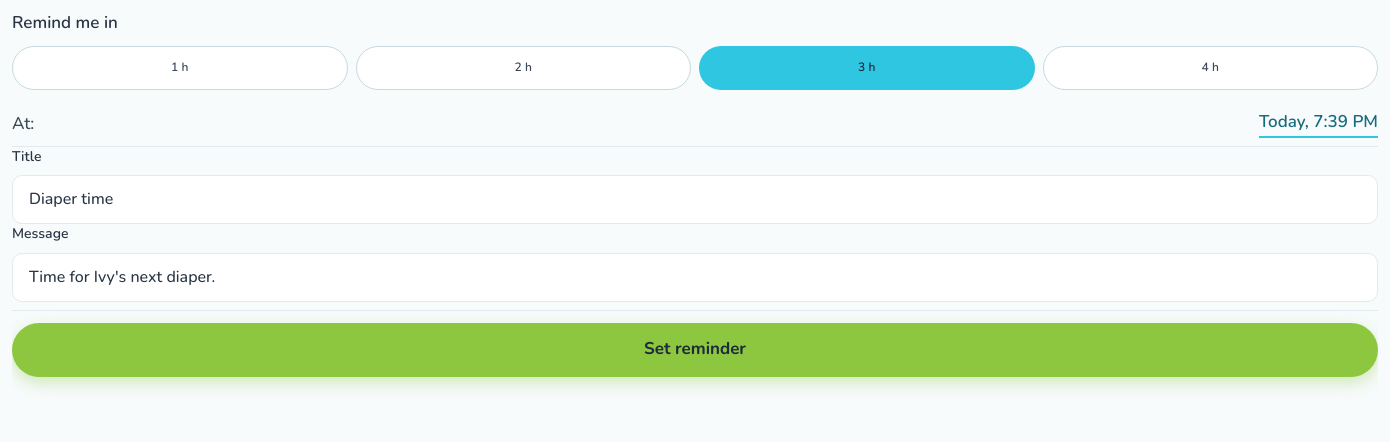
Scenario: ReminderSheet › a second tap cannot schedule the same reminder twice
What coordinates should you click on to do the following:
click the button "1 h"
I would click on:
 (180, 68)
Its box is [12, 46, 348, 90].
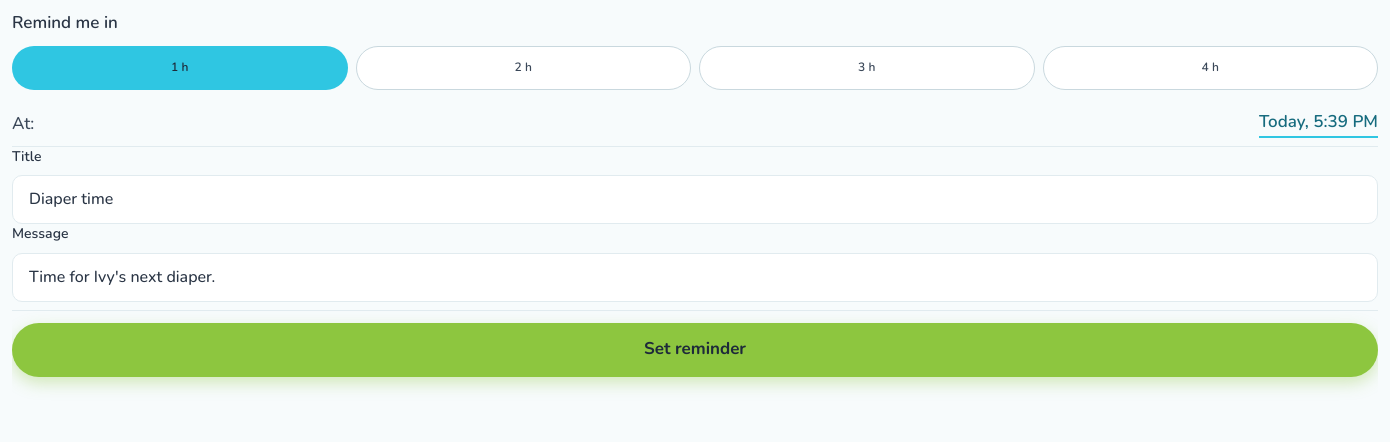
What coordinates should you click on to do the following:
click the button "Set reminder"
I would click on:
 (695, 350)
Its box is [12, 323, 1378, 377].
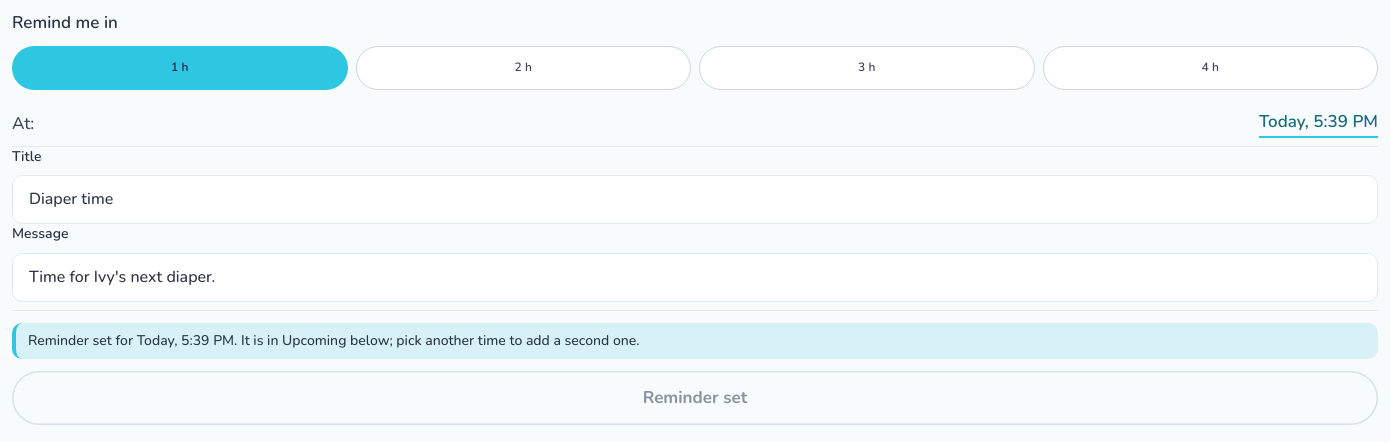
Result: the button "Reminder set" is disabled at [12, 371, 1378, 425]
Result: the text "Reminder set for" is shown at [28, 331, 137, 350]
What coordinates should you click on to do the following:
click the button "2 h"
I would click on:
 (523, 68)
Its box is [356, 46, 691, 90].
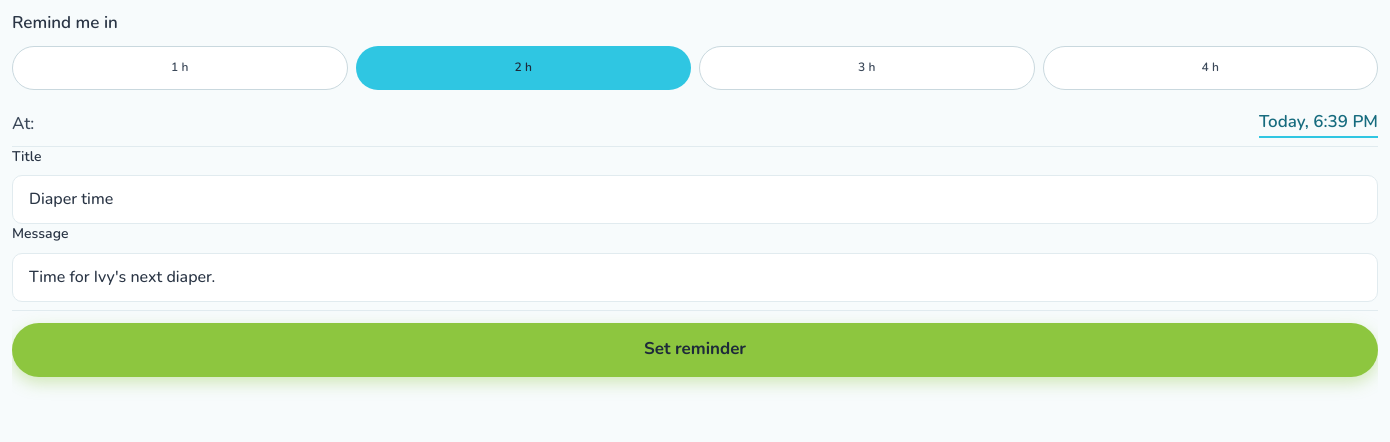
Result: the button "Set reminder" is enabled at [12, 323, 1378, 377]
